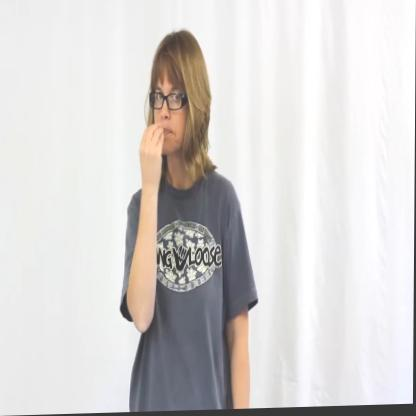Food: (128, 5, 219, 192)
